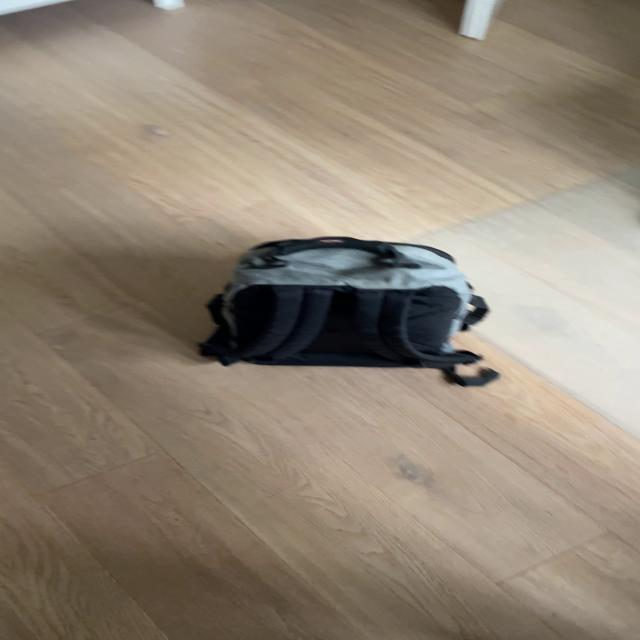backpack: (197, 227, 489, 378)
